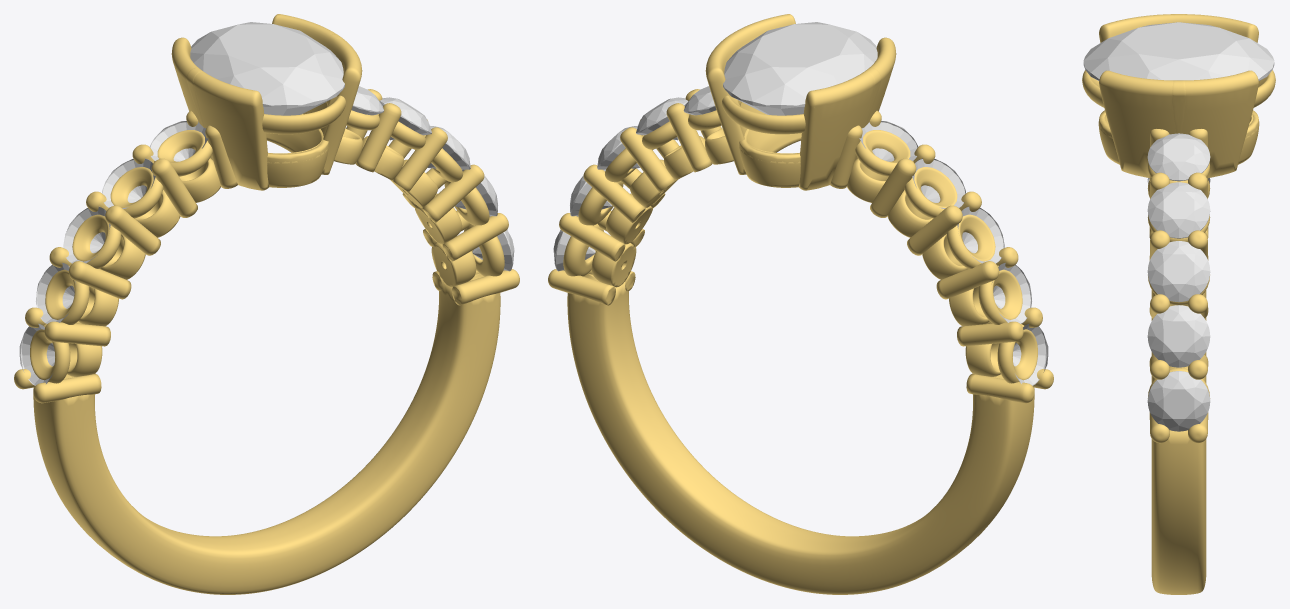
Rendered from diamond-oval-yellowgold-halfmoonbezel-straightband-11stone.glb.
The picture shows the model from 3 angles, left to right: view 1: azimuth 30°, elevation 25°; view 2: azimuth 150°, elevation 25°; view 3: azimuth 270°, elevation 25°; orthographic projection.
Visible parts, largest first — view 1: metal, stone.003, side.032, side.033, side.031, side.034, side.030, side.038; view 2: metal, stone.003, side.032, side.033, side.031, side.034, side.030, side.038; view 3: metal, stone.003, side.036, side.037, side.035, side.038, side.039.
Boxes of the visible parts, left/top/right/bottom form: metal: left=14, top=14, right=519, bottom=594; stone.003: left=190, top=22, right=344, bottom=115; side.032: left=63, top=206, right=110, bottom=263; side.033: left=102, top=158, right=155, bottom=208; side.031: left=36, top=263, right=75, bottom=323; side.034: left=150, top=121, right=208, bottom=161; side.030: left=19, top=323, right=54, bottom=385; side.038: left=379, top=97, right=431, bottom=140; metal: left=548, top=14, right=1053, bottom=594; stone.003: left=723, top=22, right=877, bottom=115; side.032: left=957, top=206, right=1004, bottom=263; side.033: left=912, top=158, right=965, bottom=208; side.031: left=992, top=263, right=1031, bottom=323; side.034: left=859, top=121, right=917, bottom=161; side.030: left=1013, top=323, right=1048, bottom=385; side.038: left=636, top=97, right=688, bottom=140; metal: left=1082, top=14, right=1275, bottom=594; stone.003: left=1083, top=22, right=1274, bottom=80; side.036: left=1147, top=305, right=1210, bottom=367; side.037: left=1147, top=241, right=1210, bottom=302; side.035: left=1147, top=371, right=1210, bottom=431; side.038: left=1147, top=182, right=1210, bottom=238; side.039: left=1147, top=133, right=1210, bottom=181.
Size of the model in its own units: 22.01 by 23.41 by 7.75.
